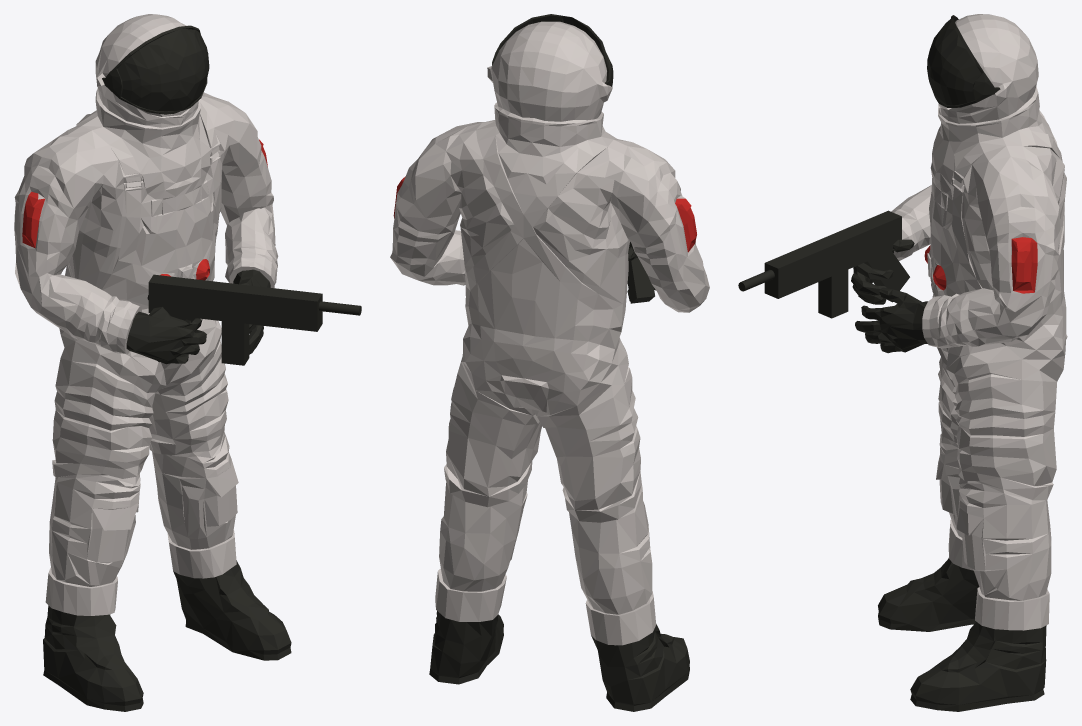
The model's file is 05 Astronaut_with_Machine_gun.FBX.
The picture shows the model from 3 angles, left to right: view 1: azimuth 30°, elevation 25°; view 2: azimuth 150°, elevation 25°; view 3: azimuth 270°, elevation 25°; orthographic projection. The views are drawn at different scales.
Parts seen in each view (by area): view 1: suit; view 2: suit; view 3: suit.
Boxes of the visible parts, bbox=[...] form: suit: bbox=[14, 14, 361, 711]; suit: bbox=[390, 14, 709, 711]; suit: bbox=[738, 14, 1067, 711].
Size of the model in its own units: 632 by 1424 by 666.
